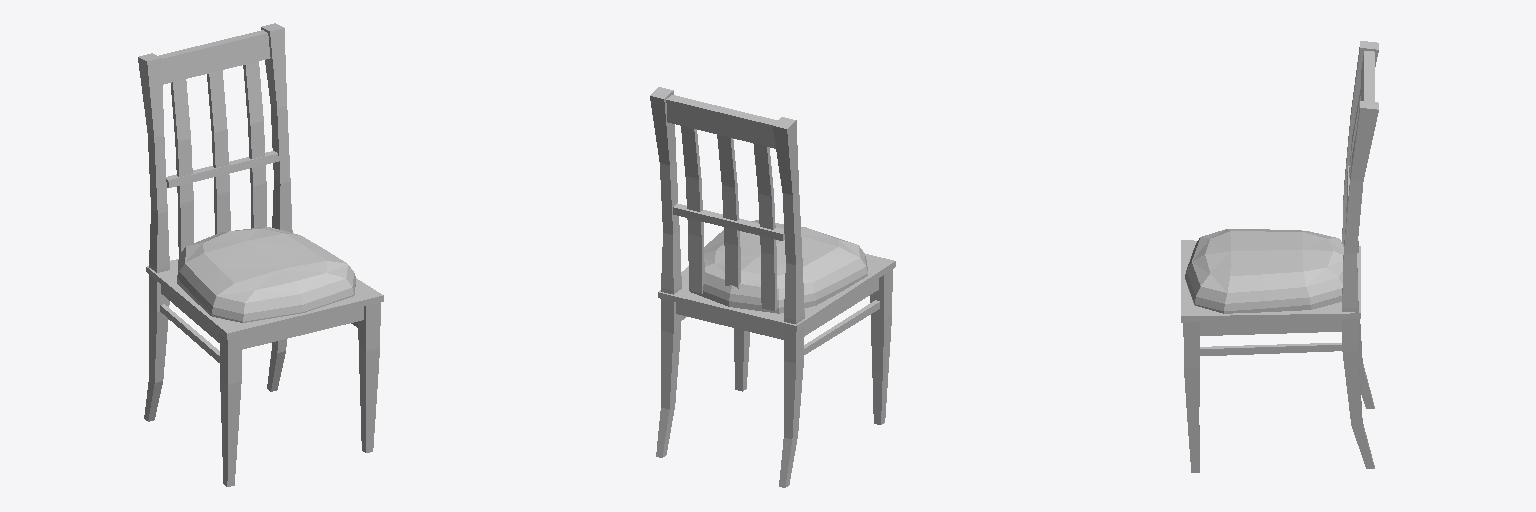
File: Chair_3.obj
3 views of the same model, side by side, from view 1: azimuth 30°, elevation 25°; view 2: azimuth 150°, elevation 25°; view 3: azimuth 270°, elevation 25° (orthographic).
Visible parts, largest first — view 1: Chair_3; view 2: Chair_3; view 3: Chair_3.
Boxes of the visible parts, <box> form: Chair_3: <box>138,23,383,486</box>; Chair_3: <box>650,87,895,487</box>; Chair_3: <box>1181,41,1378,472</box>.
Size of the model in its own units: 0.7617 by 1.69 by 0.8375.